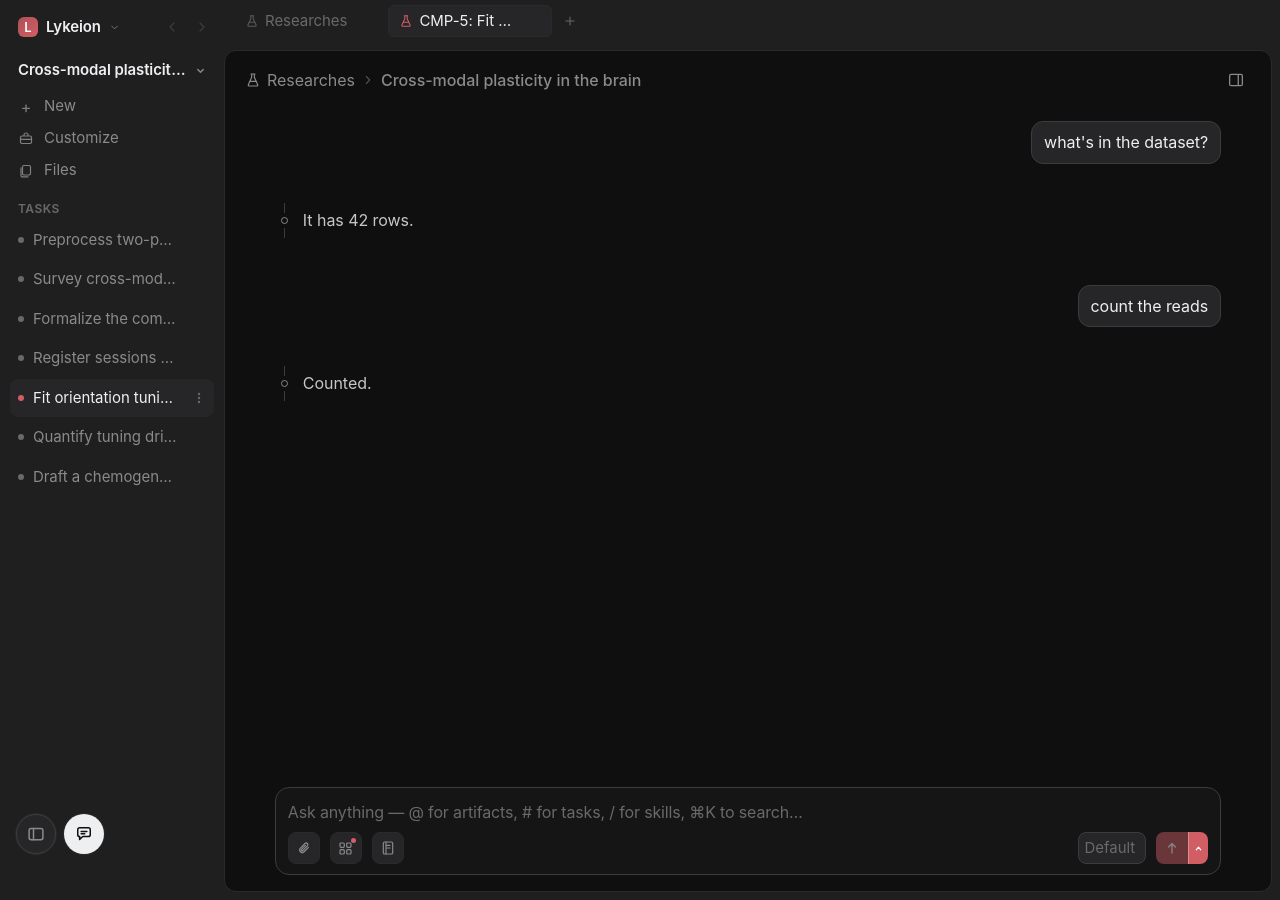
Test: neither is offered while a run is live › shows Stop instead, on every bubble on the surface
Expected: the text "Counted." is shown, [303,373,372,393]
In the text box named "Message the agent": (748, 812) [288,800,1208,824], type "and now?"
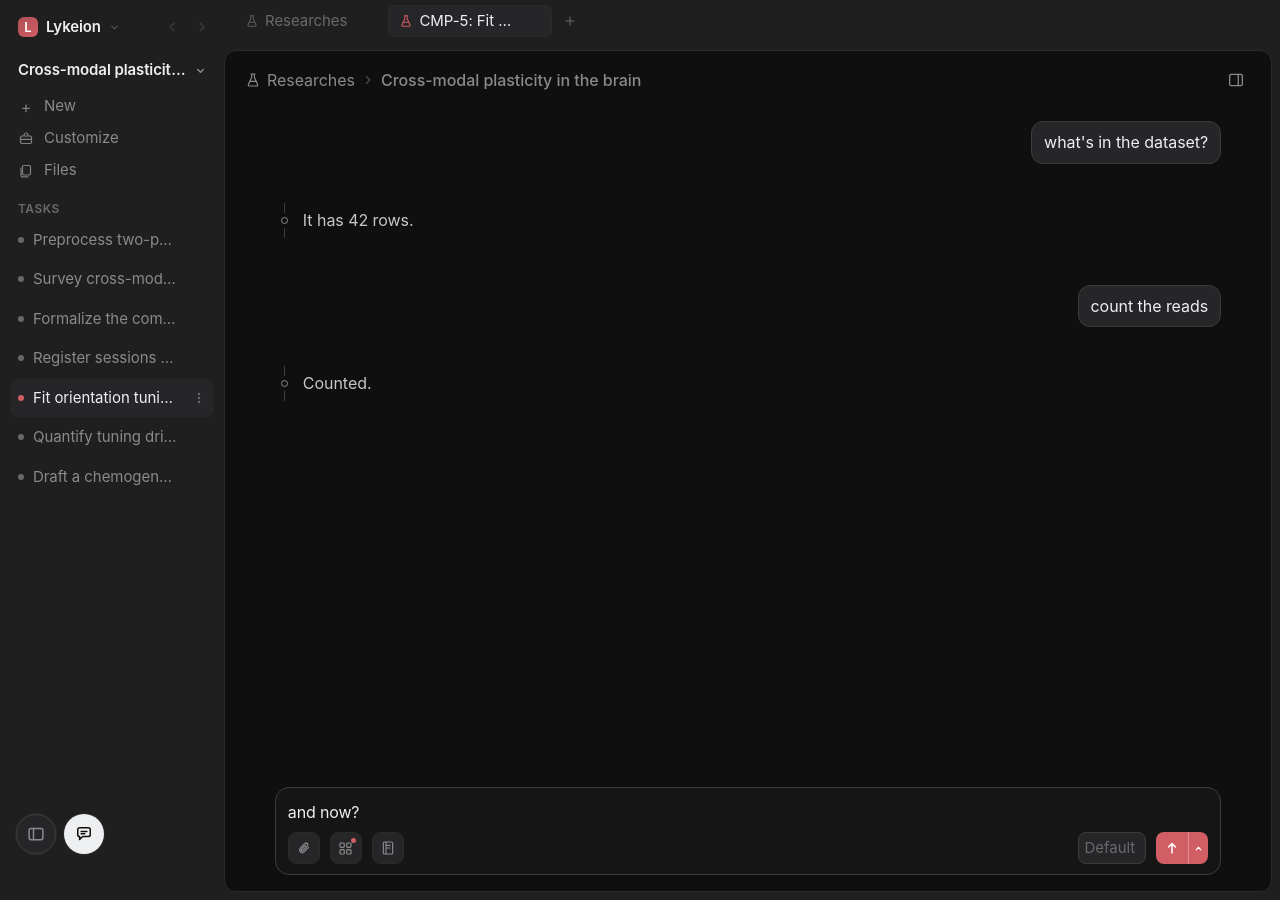
Click the button named "Send": (1172, 848) [1156,832,1188,864]
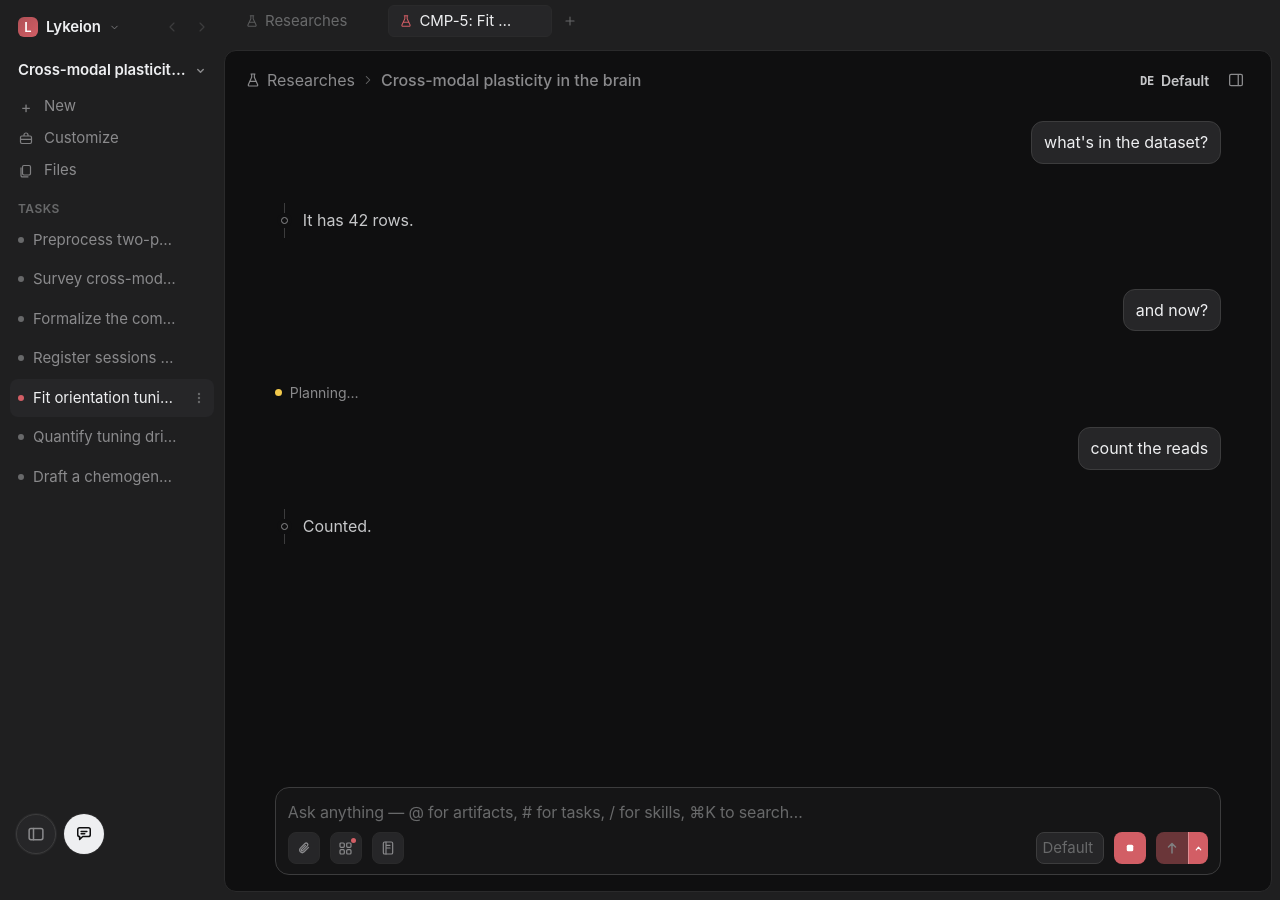
Expected: the button named "Stop" is shown, [1114,832,1146,864]
